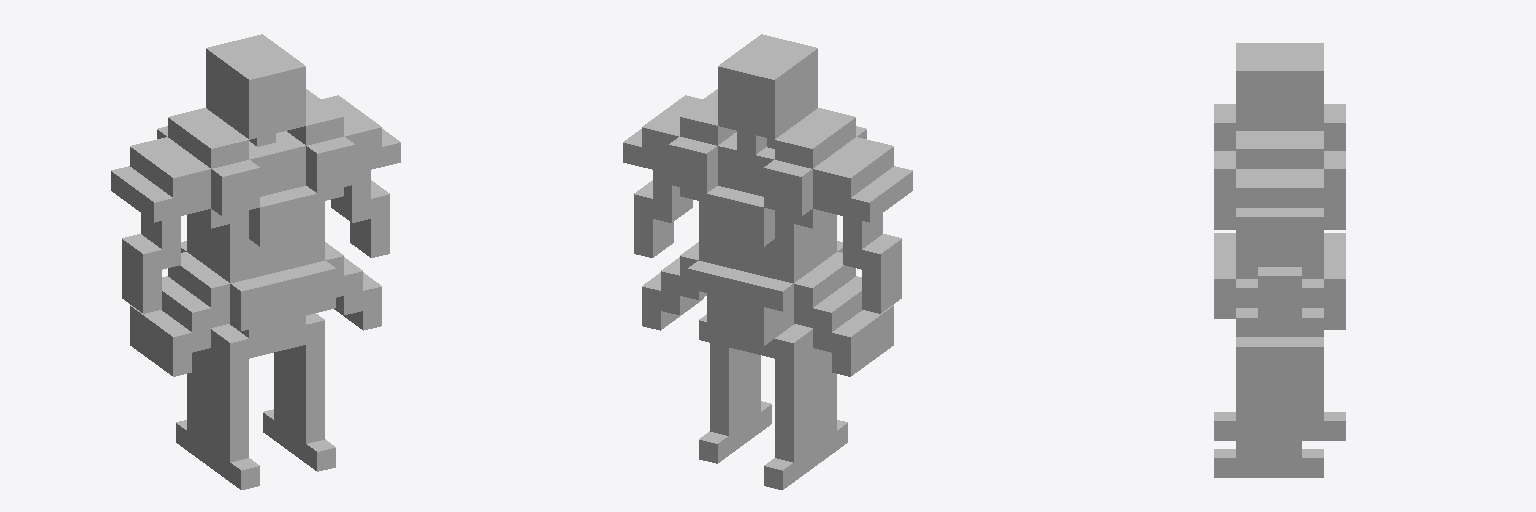
File: chr a.obj
The picture shows the model from 3 angles: view 1: azimuth 30°, elevation 25°; view 2: azimuth 150°, elevation 25°; view 3: azimuth 270°, elevation 25°; orthographic projection.
Parts seen in each view (by area): view 1: object 1; view 2: object 1; view 3: object 1.
Boxes of the visible parts, x1=… form: object 1: x1=111, y1=34, x2=400, y2=489; object 1: x1=623, y1=34, x2=912, y2=489; object 1: x1=1214, y1=43, x2=1345, y2=477.
Size of the model in its own units: 1.3 by 2 by 0.6.